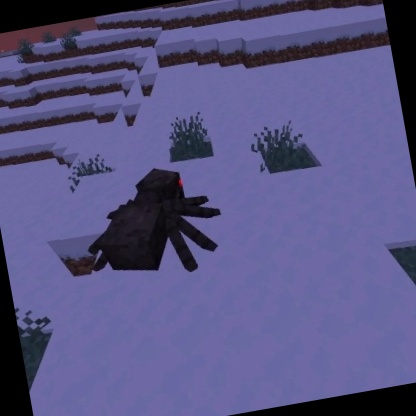spider: (72, 155, 235, 292)
